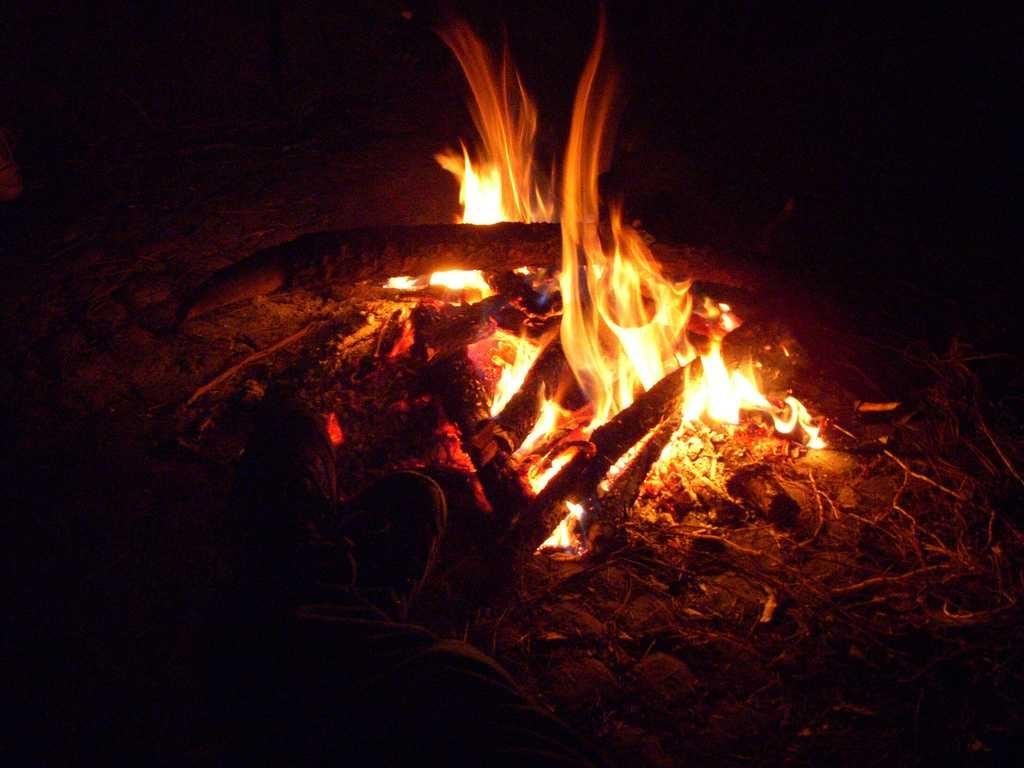fire: (568, 308, 668, 374), (460, 154, 524, 220), (688, 362, 748, 424)
